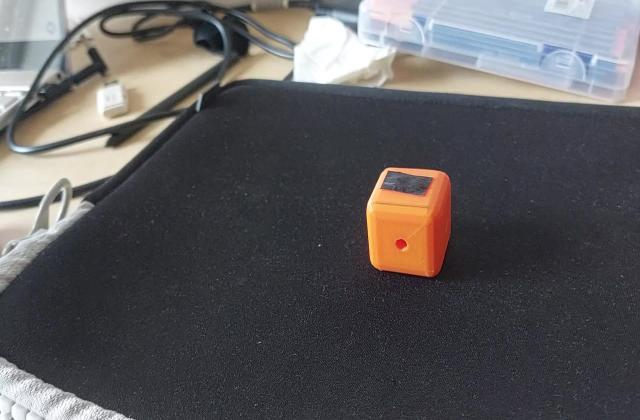black: (384, 170, 437, 200)
cube: (364, 164, 456, 281)
